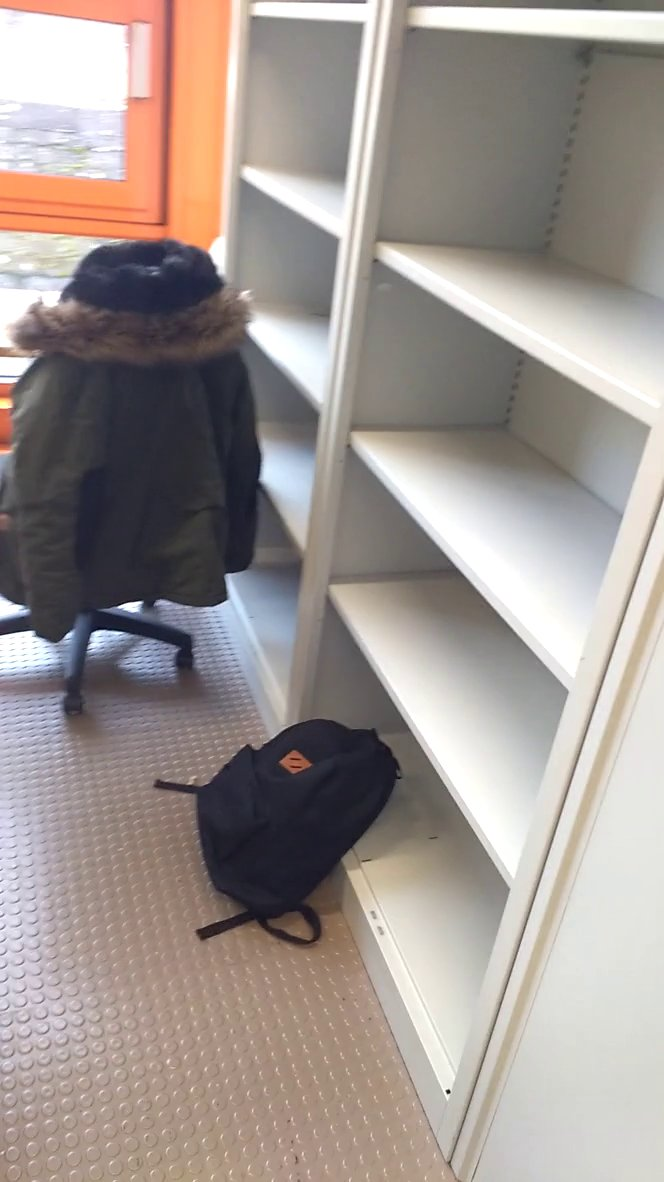bag: (152, 714, 413, 955)
